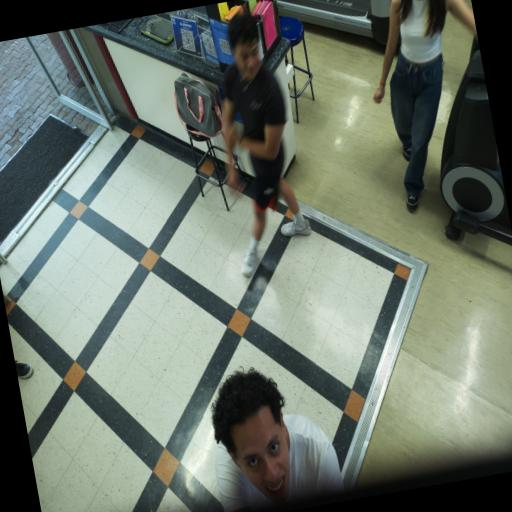person: (224, 14, 311, 276), (374, 0, 476, 210), (212, 368, 343, 511), (15, 361, 33, 379)
